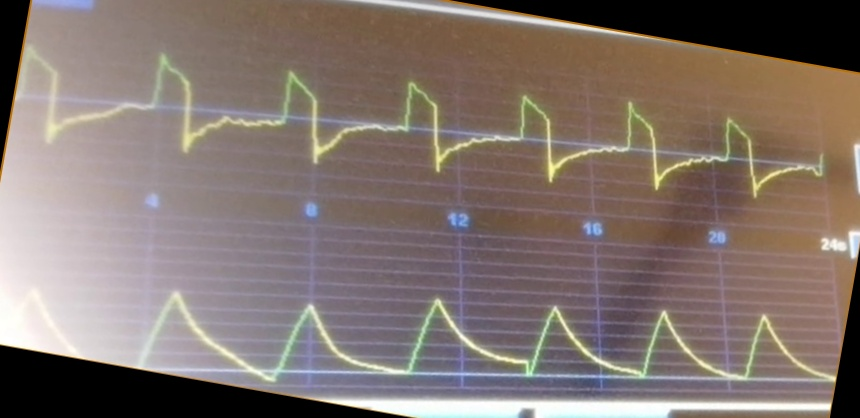Accumulation Flow: (28, 57, 772, 196)
Volume: (31, 290, 834, 386)
